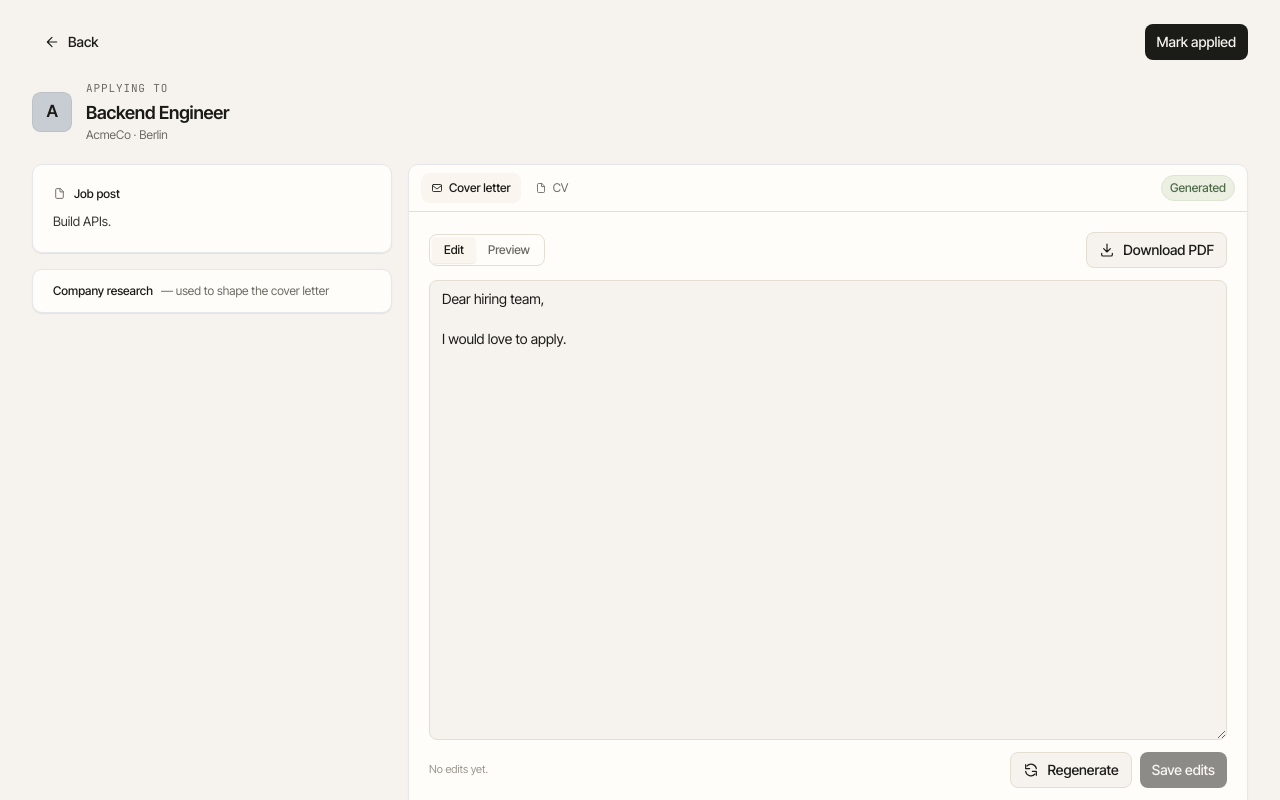
Test case: GeneratePage (generate mode) › marks the application applied and navigates to the dashboard
Expected: the text box named "edit" is shown, [429,280,1227,740]
Click the button "Mark applied". click: (1196, 42)
box: [1145,24,1248,60]
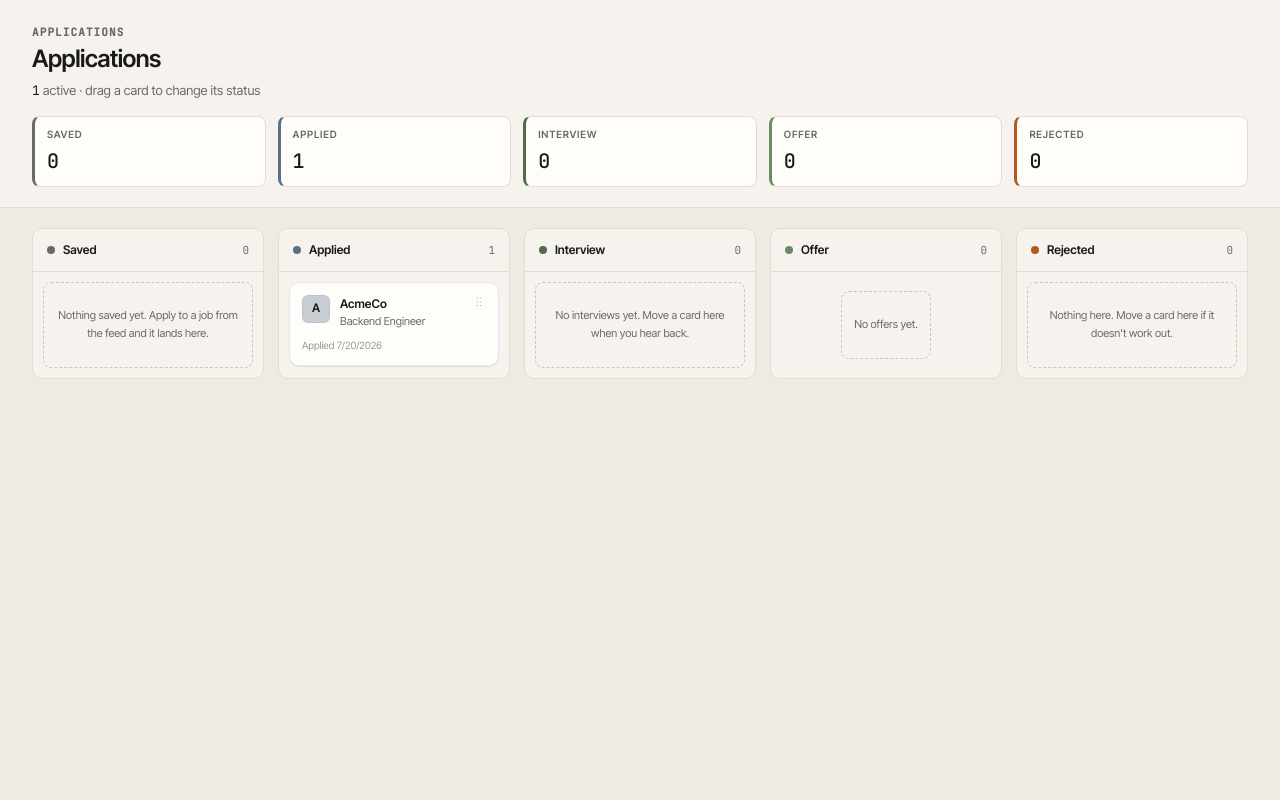
Expected: the text "AcmeCo" is shown, [340,296,387,311]
Now the heading "Applications" is shown, box [32,44,161,72]
